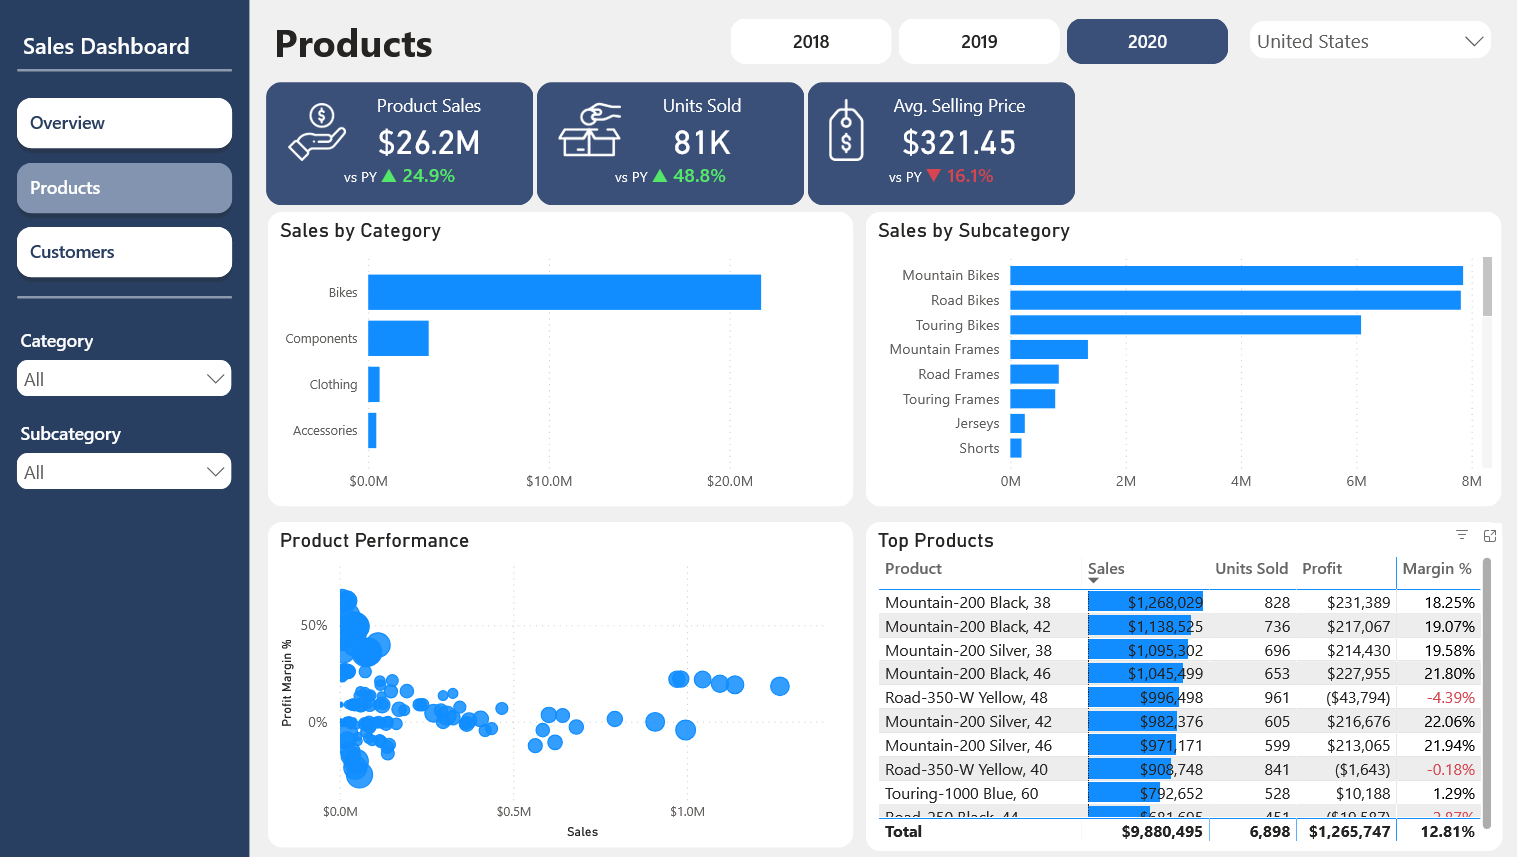

This screenshot's page, from the dashboard's own definition file:
{"tool":"powerbi","page":{"name":"Products","canvas":[1280,720],"ordinal":1},"visuals":[{"type":"shape","box":[0,0,209.3,719.4],"z":0,"group":"g4"},{"type":"textbox","box":[224.2,8.4,152.3,52.6],"z":0},{"type":"slicer","fields":{"Values":["Product.Products.Category"]},"box":[9.3,270.9,189.7,68.2],"z":0,"group":"g2"},{"type":"advancedSlicerVisual","fields":{"Values":["Date.Fiscal Year Display"]},"box":[603.9,8.2,432.5,52.6],"z":1000},{"type":"group","id":"g1","title":"Group 3","box":[14,20.6,180.3,235.4],"z":1000,"group":"g4"},{"type":"slicer","fields":{"Values":["Product.Products.Subcategory"]},"box":[9.3,348.4,189.7,64.5],"z":1000,"group":"g2"},{"type":"slicer","fields":{"Values":["Sales Territory.Country"]},"box":[1037.4,8.2,222.2,46.2],"z":2000},{"type":"group","id":"g2","title":"Group 2","box":[9.3,270.9,189.7,142],"z":2000,"group":"g4"},{"type":"cardVisual","fields":{"Data":["_Measures.Total Sales","_Measures.Quantity Sold","_Measures.Average Selling Price"]},"box":[216.7,63.5,691.9,115.2],"z":3000},{"type":"actionButton","box":[14,136.5,180.3,42],"z":3000,"group":"g3"},{"type":"barChart","title":"Sales by Category","fields":{"Category":["Product.Products.Category"],"Y":["_Measures.Total Sales"]},"box":[224.2,178.5,490.5,246.7],"z":4000},{"type":"actionButton","box":[14,190.7,180.3,42],"z":4000,"group":"g3"},{"type":"clusteredBarChart","title":"Sales by Subcategory","fields":{"Category":["Product.Subcategory"],"Y":["_Measures.Total Sales"]},"box":[726,178.5,532.6,246.7],"z":5000},{"type":"tableEx","title":"Top Products    ","fields":{"Values":["Product.Product","_Measures.Total Sales","_Measures.Quantity Sold","_Measures.Profit","_Measures.Profit Margin %"]},"box":[726,438.2,533.5,275.6],"z":6000},{"type":"scatterChart","title":"Product Performance","fields":{"Category":["Product.Product"],"Size":["_Measures.Quantity Sold"],"X":["_Measures.Total Sales"],"Y":["_Measures.Profit Margin %"]},"box":[224.2,438.2,490.5,272.8],"z":7000},{"type":"group","id":"g3","title":"Group 1","box":[14,82.3,180.3,150.4],"z":9000,"group":"g1"},{"type":"shape","box":[14,53.3,180.3,12.1],"z":10000,"group":"g1"},{"type":"actionButton","box":[14,82.3,180.3,42],"z":11000,"group":"g3"},{"type":"shape","box":[14,243.9,180.3,12.1],"z":11000,"group":"g1"},{"type":"group","id":"g4","title":"Group 4","box":[0,0,209.3,719.4],"z":11004},{"type":"textbox","box":[14,20.6,180.3,39.2],"z":12000,"group":"g1"}]}

Visuals, with their boxes on the page's 1280x720 design canvas (x1, y1, x2, y2). These are canvas units, not pixel positions in the 1517x857 screenshot, which may show the page scaled, cropped or inside an application window:
shape: (0, 0, 209, 719)
textbox: (224, 8, 376, 61)
slicer - Product.Products.Category: (9, 271, 199, 339)
advancedSlicerVisual - Date.Fiscal Year Display: (604, 8, 1036, 61)
"Group 3" group: (14, 21, 194, 256)
slicer - Product.Products.Subcategory: (9, 348, 199, 413)
slicer - Sales Territory.Country: (1037, 8, 1260, 54)
"Group 2" group: (9, 271, 199, 413)
cardVisual - _Measures.Total Sales x _Measures.Quantity Sold: (217, 64, 909, 179)
actionButton: (14, 136, 194, 178)
"Sales by Category" barChart: (224, 178, 715, 425)
actionButton: (14, 191, 194, 233)
"Sales by Subcategory" clusteredBarChart: (726, 178, 1259, 425)
"Top Products    " tableEx: (726, 438, 1260, 714)
"Product Performance" scatterChart: (224, 438, 715, 711)
"Group 1" group: (14, 82, 194, 233)
shape: (14, 53, 194, 65)
actionButton: (14, 82, 194, 124)
shape: (14, 244, 194, 256)
"Group 4" group: (0, 0, 209, 719)
textbox: (14, 21, 194, 60)
